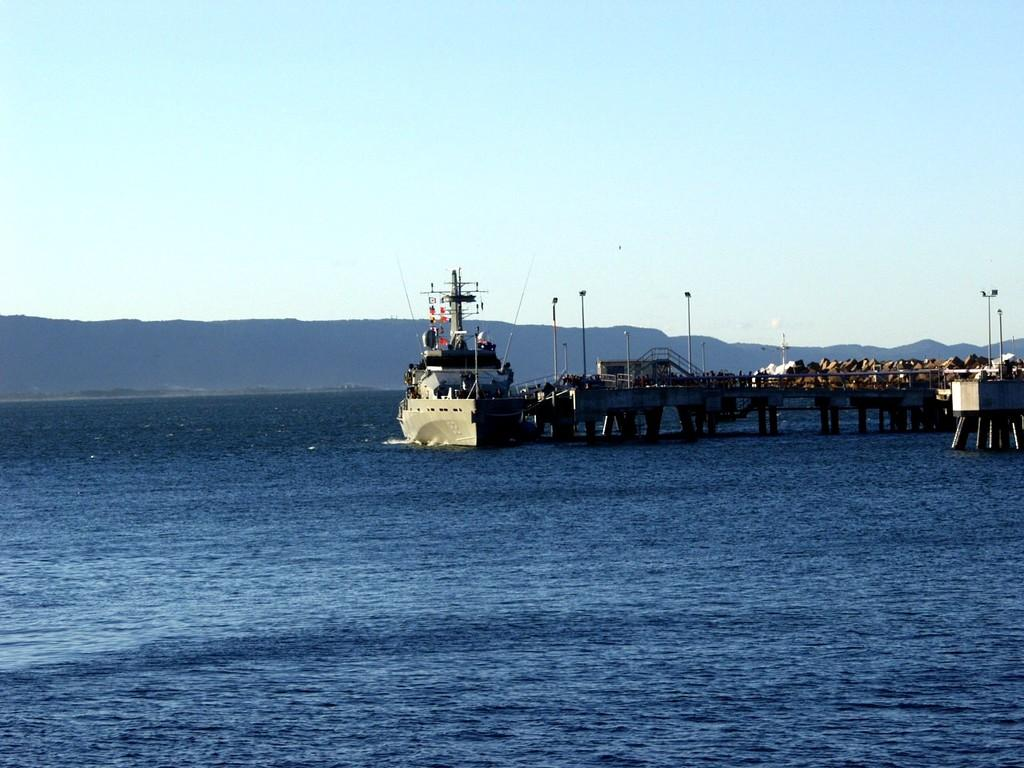Warship: (392, 264, 540, 452)
